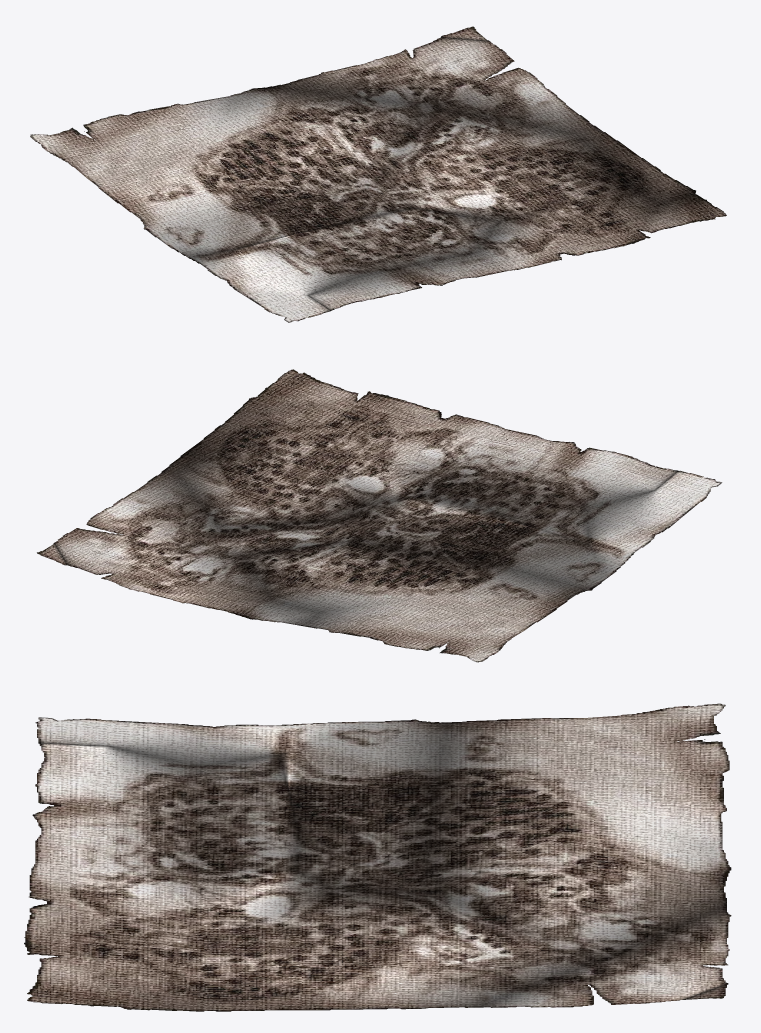
The model's file is NW_CITY_MAP_WAR_OPEN_01.glb.
3 renders of one model, top to bottom at view 1: azimuth 30°, elevation 25°; view 2: azimuth 150°, elevation 25°; view 3: azimuth 270°, elevation 25°, orthographic. The views are drawn at different scales.
Visible parts, largest first — view 1: Mesh; view 2: Mesh; view 3: Mesh.
Boxes of the visible parts, <box> form: Mesh: <box>30,26,726,322</box>; Mesh: <box>37,369,722,662</box>; Mesh: <box>24,703,731,1011</box>.
Bounding box in the file's own units: 1.5 × 0.0488 × 1.5.
1 material, 1 textured.
